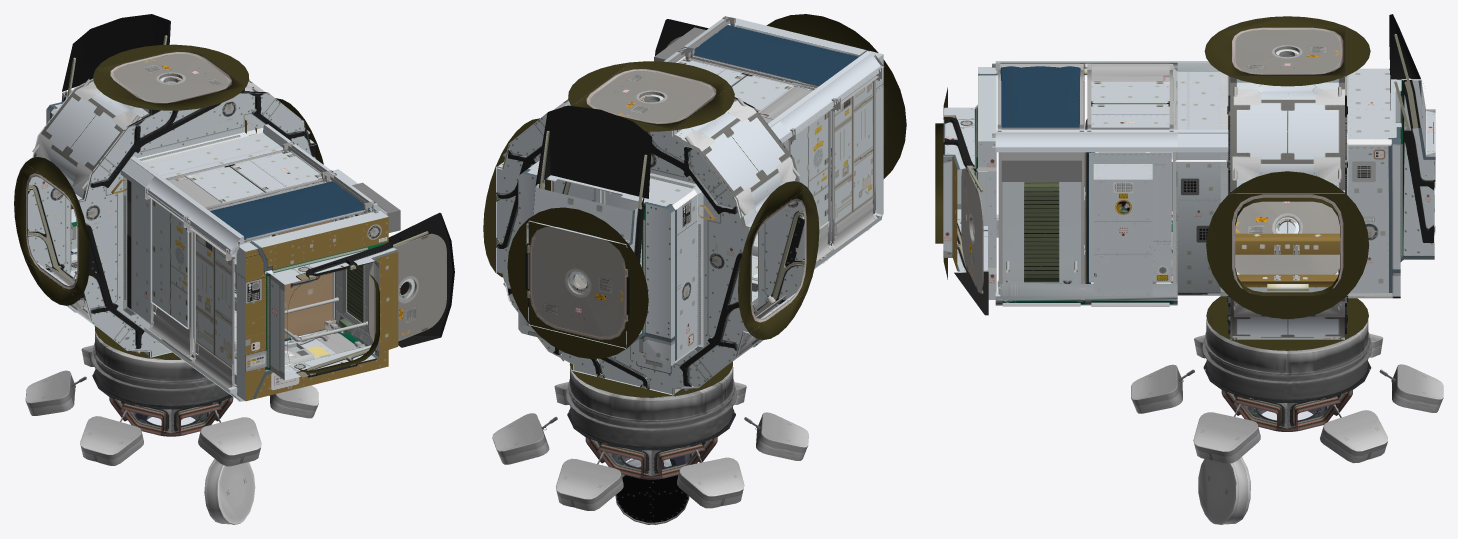
Rendered from iss_cupola_interior.glb.
The picture shows the model from 3 angles, left to right: view 1: azimuth 30°, elevation 25°; view 2: azimuth 150°, elevation 25°; view 3: azimuth 270°, elevation 25°; orthographic projection. The views are drawn at different scales.
Parts seen in each view (by area): view 1: object 3, cupola; view 2: object 3, cupola; view 3: object 3, cupola.
Part boxes in pixels (x1=…): object 3: x1=14, y1=14, x2=454, y2=401; cupola: x1=25, y1=331, x2=318, y2=524; object 3: x1=483, y1=14, x2=906, y2=397; cupola: x1=492, y1=366, x2=808, y2=524; object 3: x1=935, y1=14, x2=1435, y2=350; cupola: x1=1131, y1=318, x2=1443, y2=524.
Bounding box in the file's own units: 3.88 × 6.46 × 6.19.
10 materials, 9 textured.
